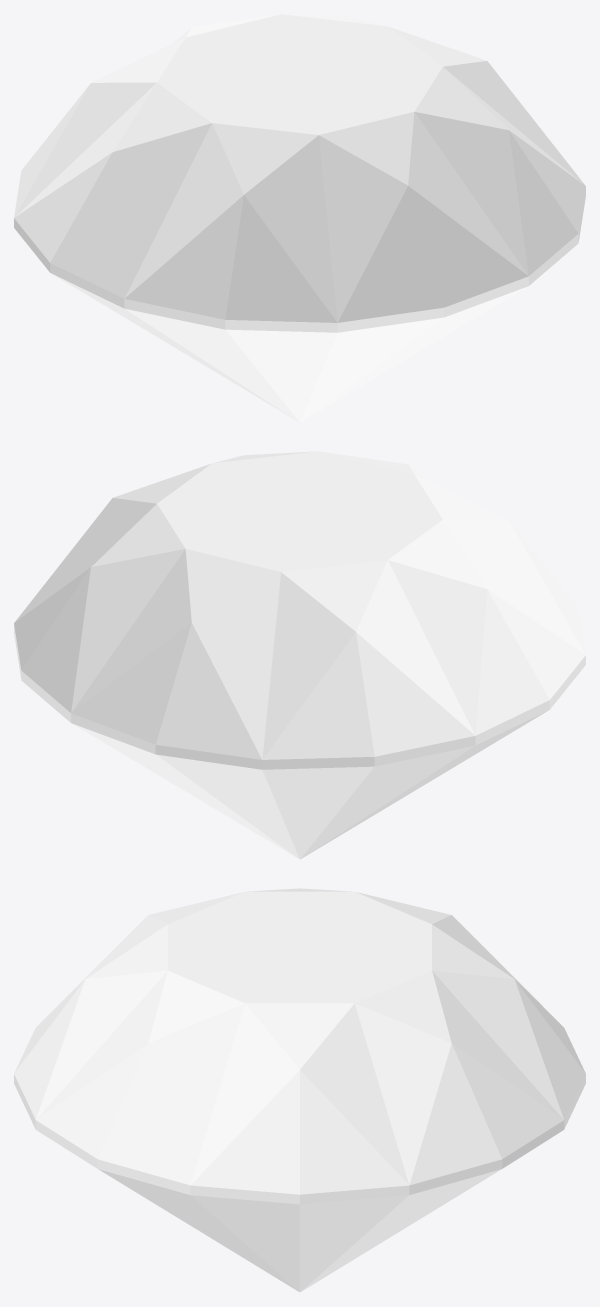
Rendered from ps2_save-icons_omoidenikawarukimi-memoriesoff-original.glb.
3 views of the same model, one above another, from view 1: azimuth 30°, elevation 25°; view 2: azimuth 150°, elevation 25°; view 3: azimuth 270°, elevation 25° (orthographic).
Visible parts, largest first — view 1: icon.ico; view 2: icon.ico; view 3: icon.ico.
Boxes of the visible parts, x1,y1,x2,y2 form: icon.ico: [14, 14, 585, 422]; icon.ico: [14, 451, 585, 859]; icon.ico: [14, 888, 585, 1292].
Size of the model in its own units: 3.93 by 2.61 by 3.93.
Materials: 1 (1 with a texture image).
